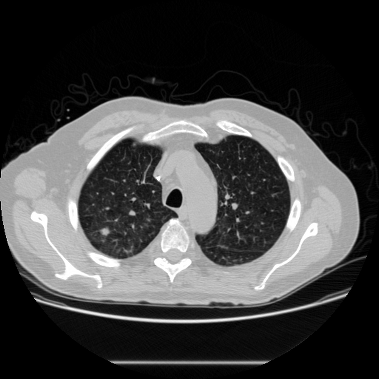nodule: (100, 227, 108, 235)
